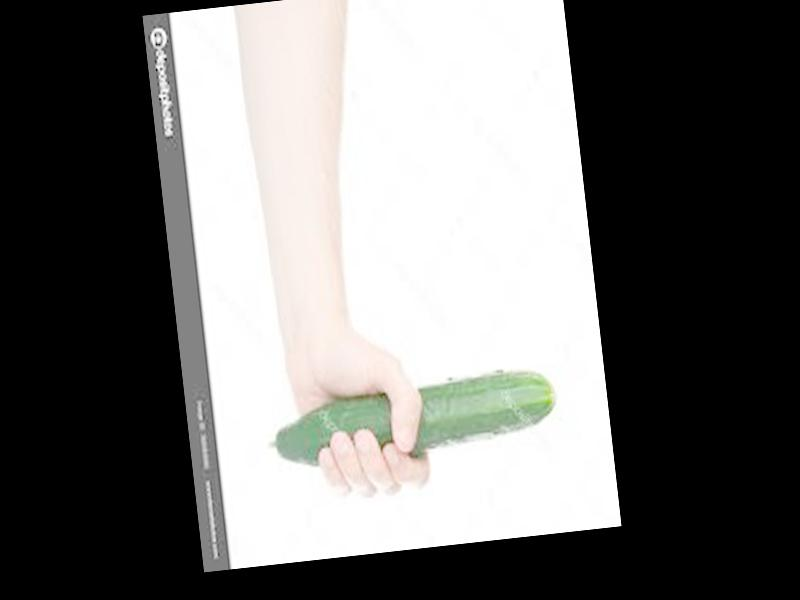Cucumber: (265, 366, 559, 471)
